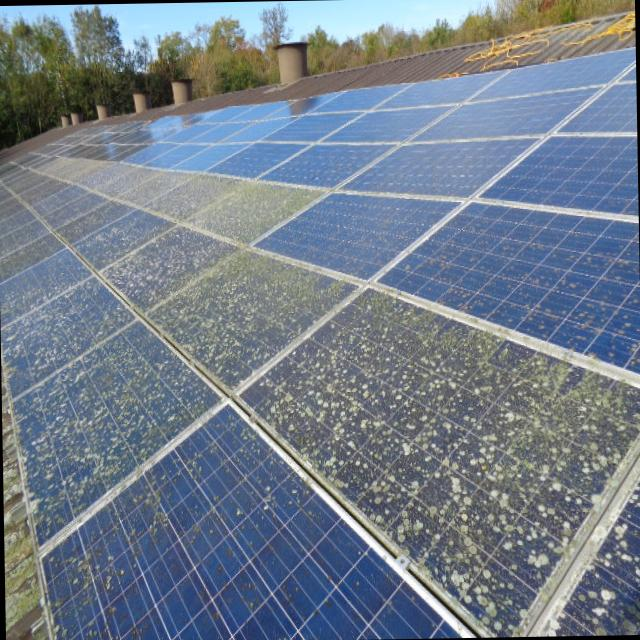faulty: (2, 144, 640, 640), (225, 283, 640, 637)
